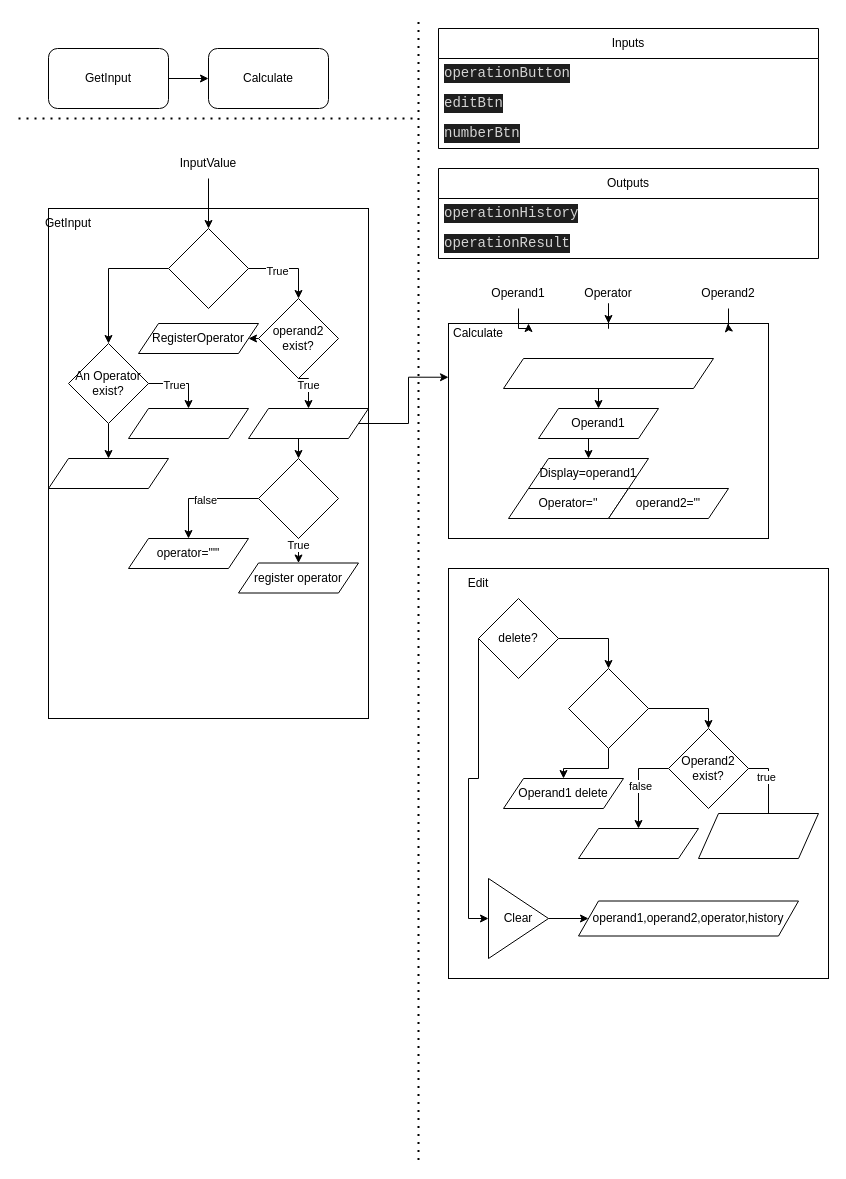
This 846x1179 diagram has some shape labels left out. Here are the shapes that lost their labels. From the top down, the centre of each, then its label:
pixel 208 268: inputValue is operator?
pixel 608 373: +Operand1 operator +Operand2
pixel 188 423: Add to Operand2
pixel 308 423: calculate()
pixel 108 473: Add to Operand1
pixel 298 498: Operator# =
pixel 608 708: Operator exist
pixel 638 843: operator=' '
pixel 758 835: Operand2 delete last
